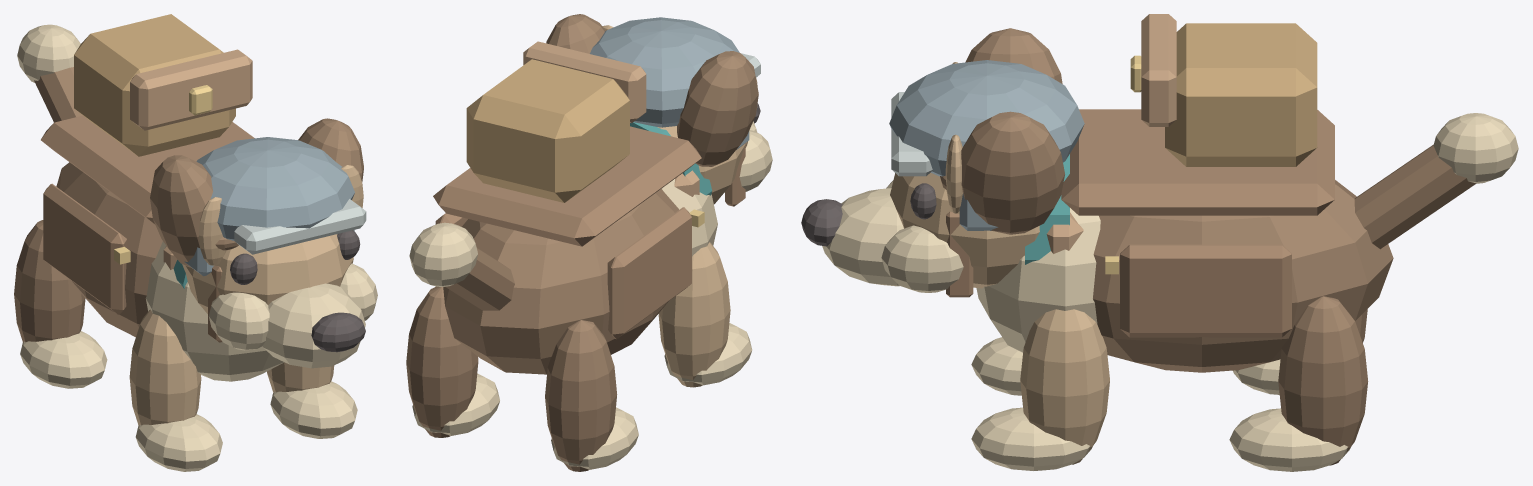
The model's file is dog_modular.glb.
The picture shows the model from 3 angles, left to right: view 1: azimuth 30°, elevation 25°; view 2: azimuth 150°, elevation 25°; view 3: azimuth 270°, elevation 25°; orthographic projection. The views are drawn at different scales.
Visible parts, largest first — view 1: Dog_Backpack__Bag, Dog_Helmet__Cap, Dog_Armor__BackPlate, Dog_Armor__Side_L, Dog_Backpack__Flap, Dog_Base__Leg_Front_L, Dog_Base__Head, Dog_Base__Chest, Dog_Base__Body, Dog_Base__Leg_Hind_L, Dog_Base__Muzzle, Dog_Base__Ear_L (+18 smaller); view 2: Dog_Base__Body, Dog_Backpack__Bag, Dog_Armor__BackPlate, Dog_Base__Leg_Hind_L, Dog_Helmet__Cap, Dog_Base__Leg_Hind_R, Dog_Armor__Side_L, Dog_Base__Ear_L, Dog_Base__Leg_Front_L, Dog_Base__TailTip, Dog_Backpack__Flap, Dog_Base__Tail (+10 smaller); view 3: Dog_Base__Body, Dog_Backpack__Bag, Dog_Armor__BackPlate, Dog_Armor__Side_R, Dog_Helmet__Cap, Dog_Base__Leg_Hind_R, Dog_Base__Leg_Front_R, Dog_Base__Ear_R, Dog_Base__Chest, Dog_Base__Tail, Dog_Base__Head, Dog_Base__Muzzle (+15 smaller).
Boxes of the visible parts, <box> form: Dog_Backpack__Bag: <box>74,14,235,156</box>; Dog_Helmet__Cap: <box>196,137,354,240</box>; Dog_Armor__BackPlate: <box>41,115,254,224</box>; Dog_Armor__Side_L: <box>43,183,127,314</box>; Dog_Backpack__Flap: <box>130,49,252,130</box>; Dog_Base__Leg_Front_L: <box>129,309,201,425</box>; Dog_Base__Head: <box>182,234,353,313</box>; Dog_Base__Chest: <box>145,241,284,381</box>; Dog_Base__Body: <box>56,162,162,337</box>; Dog_Base__Leg_Hind_L: <box>14,220,85,342</box>; Dog_Base__Muzzle: <box>262,283,365,368</box>; Dog_Base__Ear_L: <box>150,155,213,267</box>; Dog_Base__Body: <box>443,189,678,374</box>; Dog_Backpack__Bag: <box>466,59,629,202</box>; Dog_Armor__BackPlate: <box>433,126,701,246</box>; Dog_Base__Leg_Hind_L: <box>545,320,617,471</box>; Dog_Helmet__Cap: <box>590,17,739,127</box>; Dog_Base__Leg_Hind_R: <box>406,286,478,437</box>; Dog_Armor__Side_L: <box>607,207,691,339</box>; Dog_Base__Ear_L: <box>677,51,758,166</box>; Dog_Base__Leg_Front_L: <box>658,242,730,387</box>; Dog_Base__TailTip: <box>409,222,477,286</box>; Dog_Backpack__Flap: <box>523,41,646,123</box>; Dog_Base__Tail: <box>445,248,514,310</box>; Dog_Base__Body: <box>1093,180,1393,372</box>; Dog_Backpack__Bag: <box>1165,23,1317,166</box>; Dog_Armor__BackPlate: <box>1061,109,1334,215</box>; Dog_Armor__Side_R: <box>1120,244,1291,337</box>; Dog_Helmet__Cap: <box>889,60,1084,176</box>; Dog_Base__Leg_Hind_R: <box>1278,296,1368,465</box>; Dog_Base__Leg_Front_R: <box>1020,309,1109,464</box>; Dog_Base__Ear_R: <box>961,111,1064,234</box>; Dog_Base__Chest: <box>976,208,1100,352</box>; Dog_Base__Tail: <box>1354,144,1476,249</box>; Dog_Base__Head: <box>890,172,1039,288</box>; Dog_Base__Muzzle: <box>822,188,903,286</box>.
Size of the model in its own units: 0.69 by 1.09 by 1.83.
